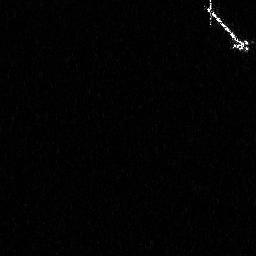ship: (202, 1, 256, 52)
